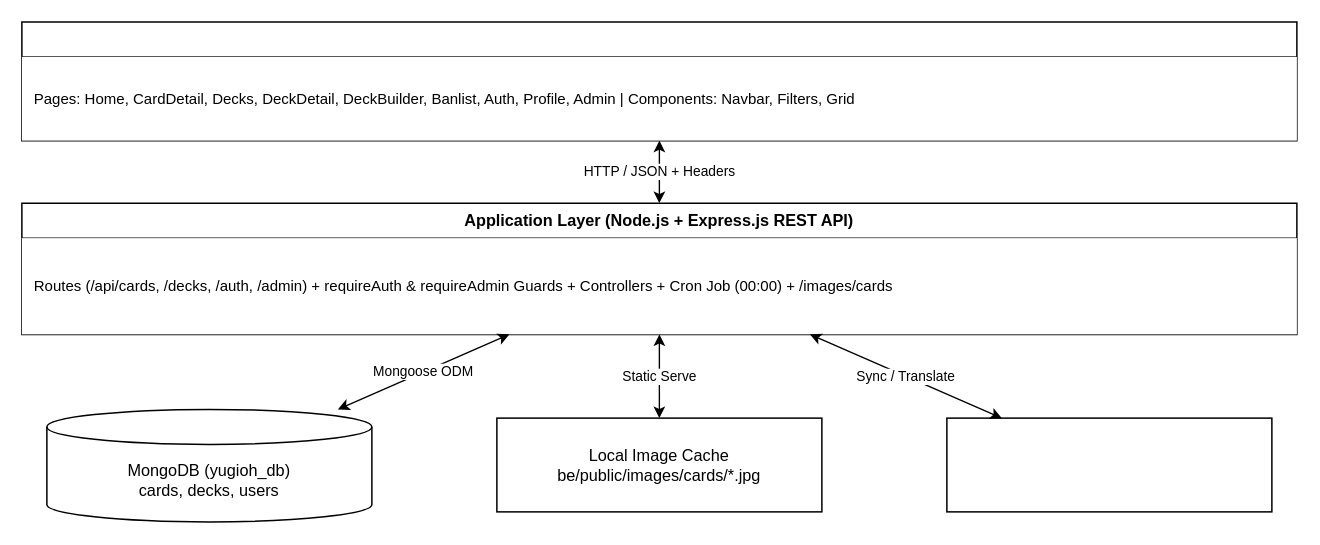
The diagram is 1320 pixels wide and 545 high, and some of its shapes have lost their labels. Each missing label, with the box of its shape:
External Feeds YGOPRODeck API v7 & Translator: (946, 417, 1272, 512)
Presentation Layer (React 18 + Vite SPA): (20, 20, 1297, 141)
